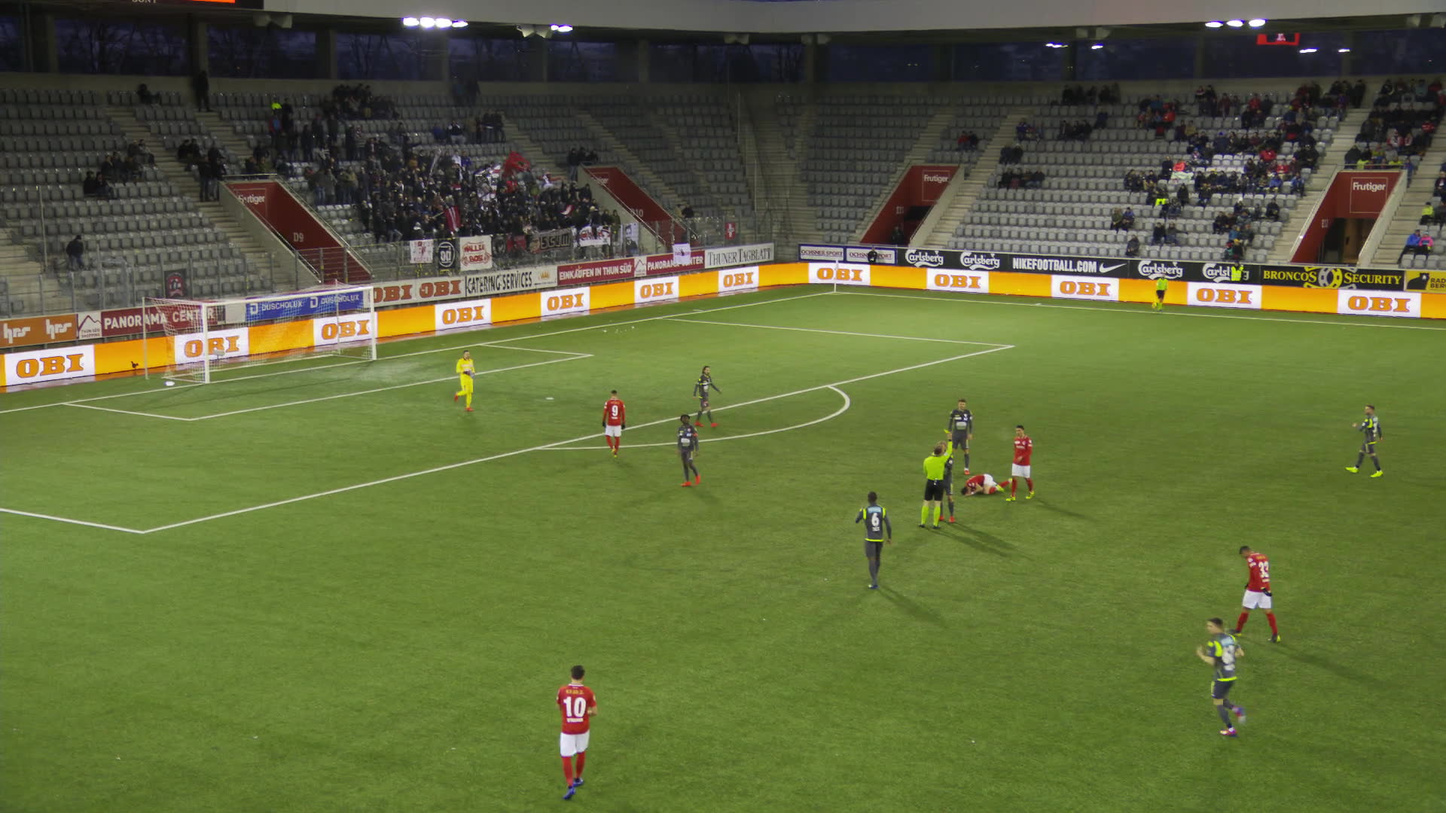player: (1196, 617, 1260, 738), (554, 663, 599, 799), (1226, 544, 1280, 644), (854, 489, 892, 589), (1344, 403, 1384, 478), (931, 438, 961, 525), (1004, 423, 1036, 502), (944, 397, 975, 476), (673, 413, 704, 488), (691, 364, 722, 427), (600, 388, 627, 458), (453, 349, 476, 413), (959, 472, 1013, 497)
referee: (915, 427, 953, 531), (1149, 271, 1170, 313)
